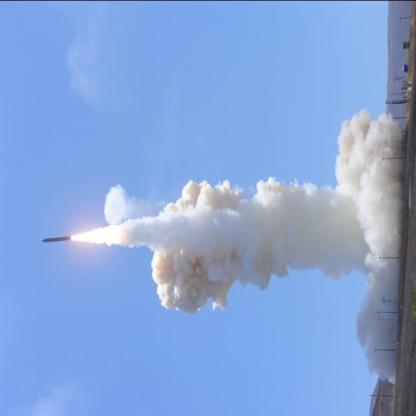MIL_TBM: (40, 234, 76, 243)
